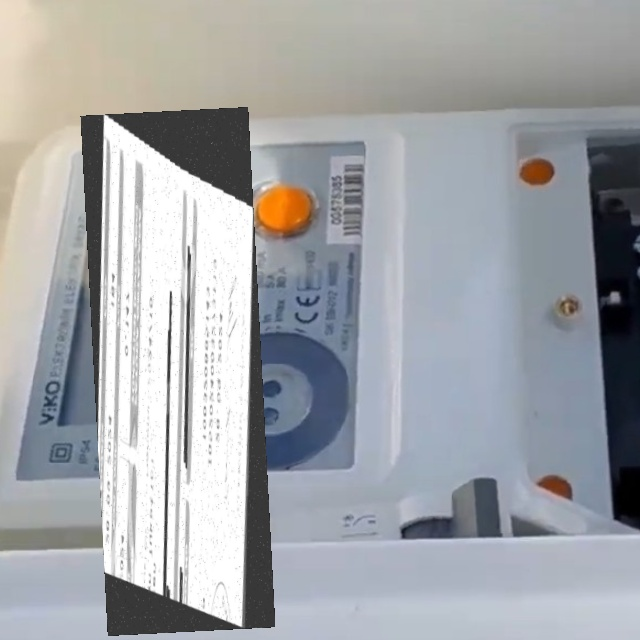electricity-bill: (79, 107, 274, 636)
